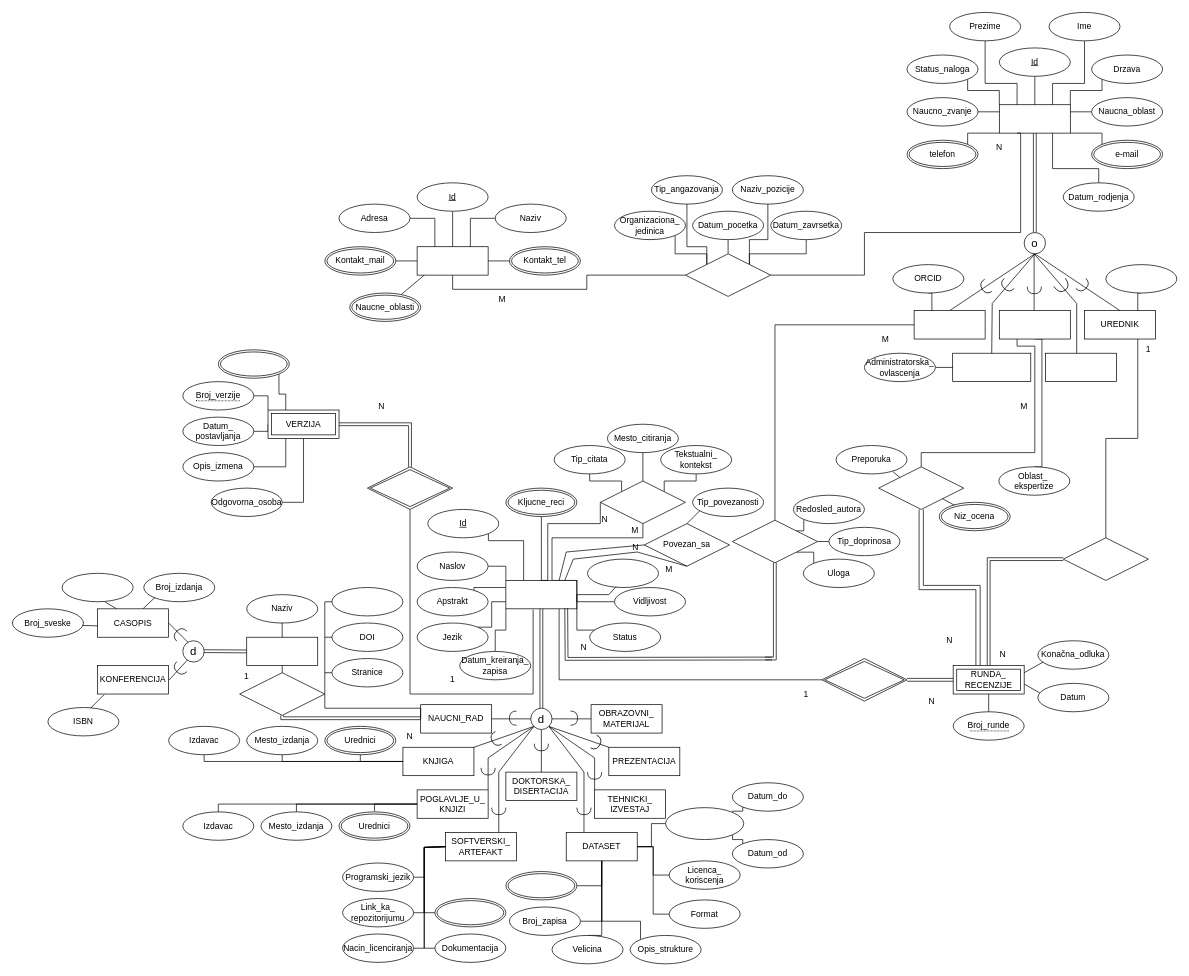
The diagram is 1189 pixels wide and 976 high, and some of its shapes have lost their labels. The shapes that lost their labels are listed below. From the top down, each one's box as (x1, y1, x2, y2) in pixels, then its label:
(999, 104, 1070, 133): ISTRAZIVAC
(416, 246, 488, 275): INSTITUCIJA
(685, 253, 771, 296): Angazovanje
(1105, 264, 1177, 293): Uredjivacka_ sekcija
(913, 310, 985, 339): AUTOR
(999, 310, 1070, 339): RECENZENT
(218, 349, 289, 378): Fajlovi
(952, 353, 1031, 382): ADMINISTRATOR_ REPOZITORIJUMA
(1045, 353, 1116, 382): RUKOVODILAC_ PROJEKTA
(367, 466, 453, 509): Ima
(600, 480, 686, 524): Citira
(878, 466, 964, 509): Vrsi_recenziju
(732, 520, 818, 563): Autorstvo
(1063, 537, 1148, 580): Uredjuje
(61, 573, 133, 602): ISSN
(587, 558, 659, 588): Datum_ objavljivanja
(331, 587, 403, 616): Tip_rada
(505, 580, 577, 609): PUBLIKACIJA
(246, 637, 318, 666): IZVOR
(239, 672, 325, 715): Objavljen_u
(821, 658, 907, 701): Prolazi
(665, 807, 744, 840): Period_obuhvata_ podataka
(505, 871, 577, 900): Ogranicenja_ pristupa
(434, 898, 506, 927): Podrzane_ platforme
